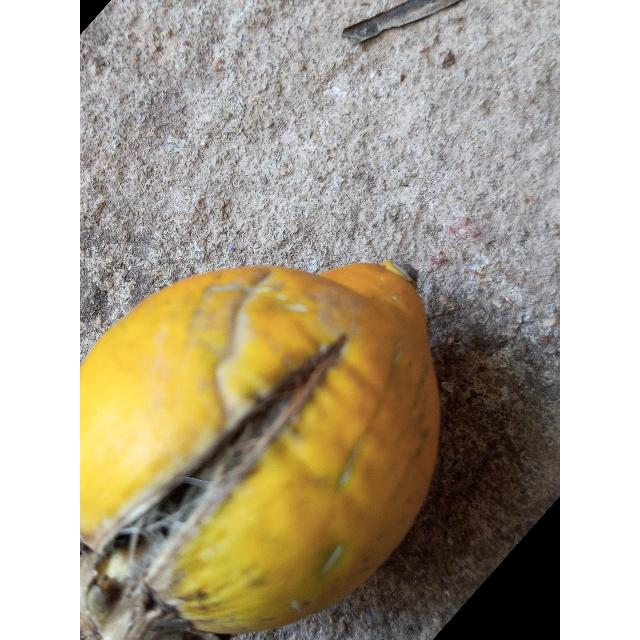damaged: (80, 261, 439, 640)
